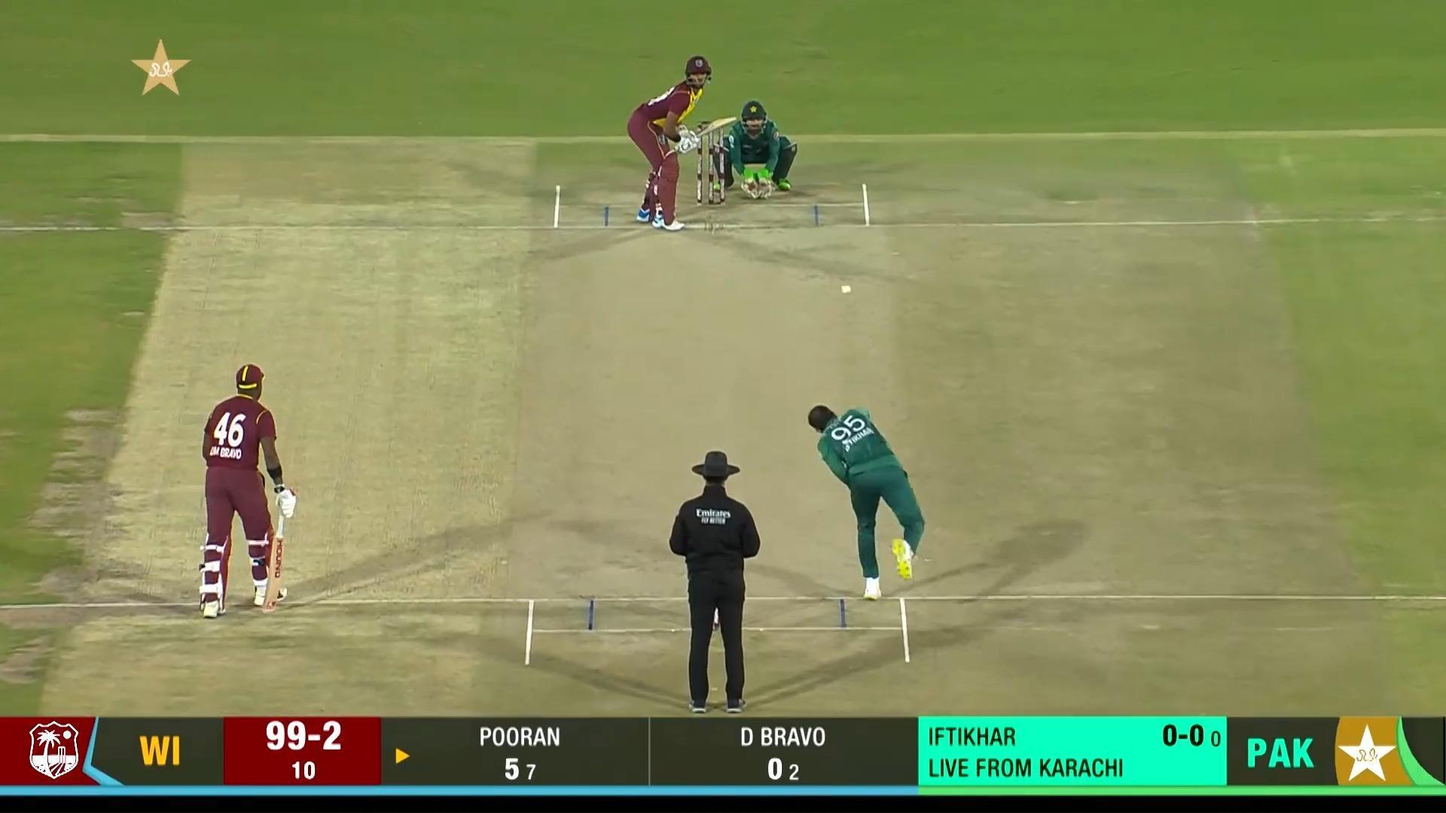BM 1: (628, 55, 737, 232)
BO: (807, 403, 926, 601)
